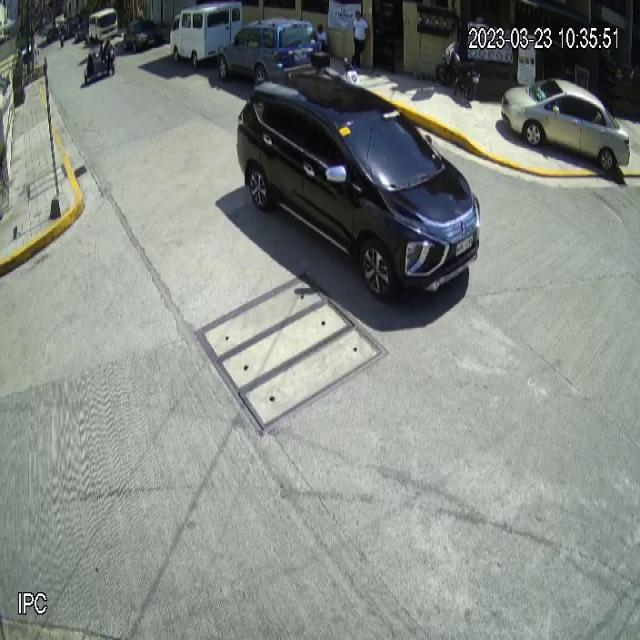Car: (235, 72, 481, 302), (501, 78, 632, 173), (217, 17, 323, 89)
Van: (170, 1, 242, 67)
